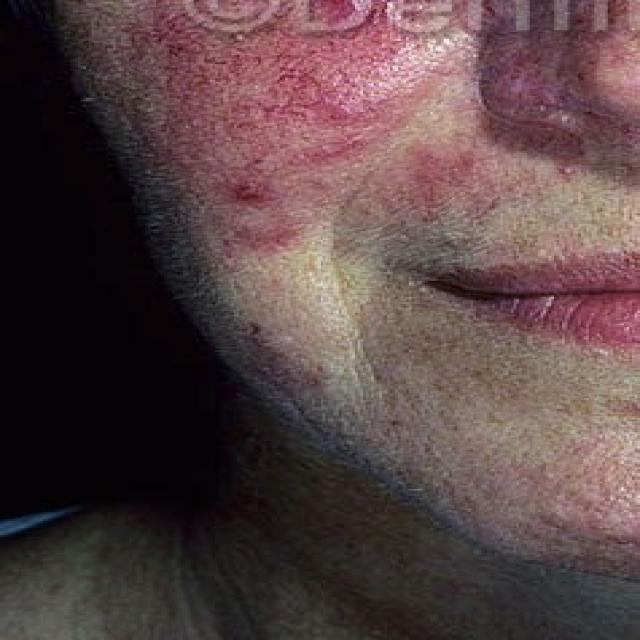Rosacea: (128, 20, 430, 251)
